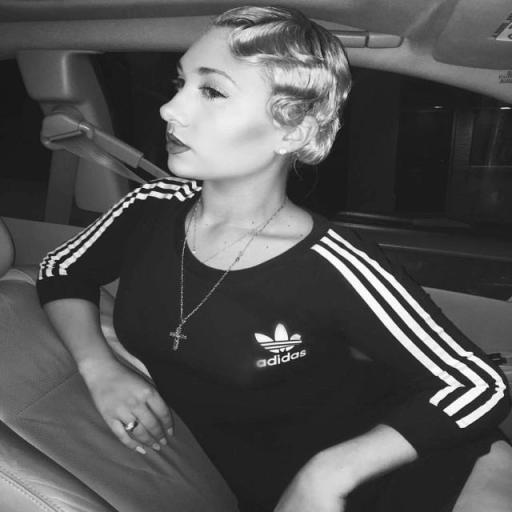Adidas: (251, 320, 308, 370)
